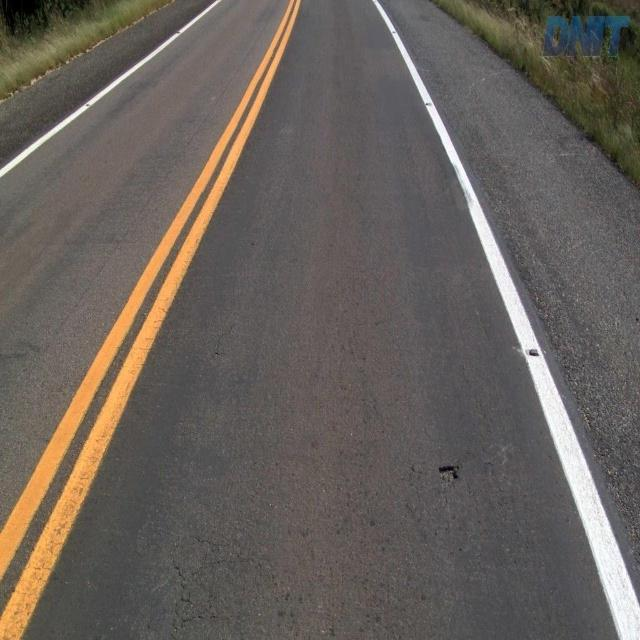pothole: (434, 458, 463, 489)
